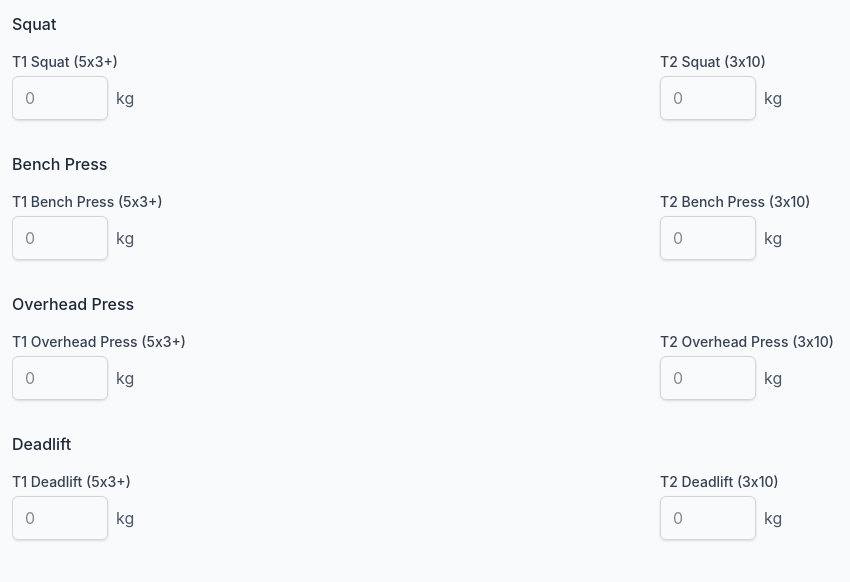
Test: MainLiftWeightSetup (8-weight form) › real-time validation › shows validation error for empty T1 field on blur
Step 1. Click the number field labelled "T1 Squat (5x3+)" → (60, 98), box [12,76,108,120]
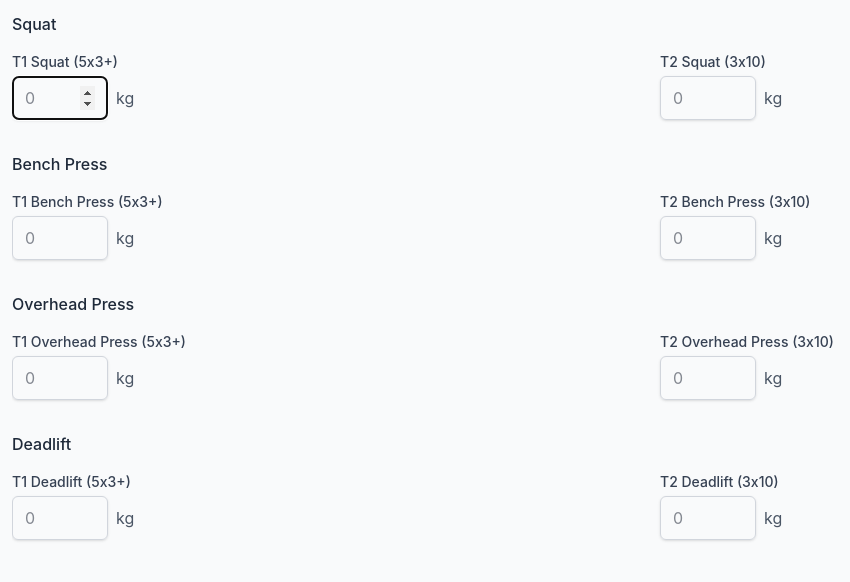
Step 2. Press Tab
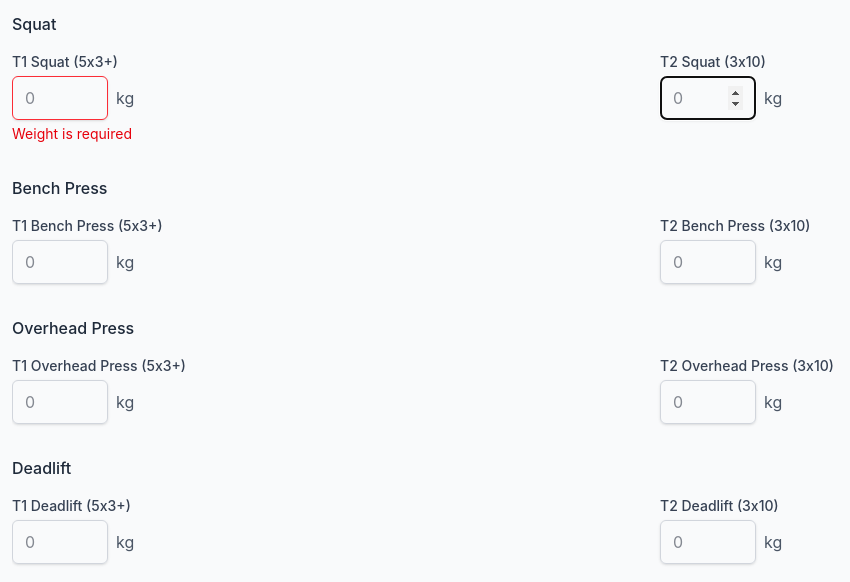
Now the text "Weight is required" is shown, box [12,125,132,142]
